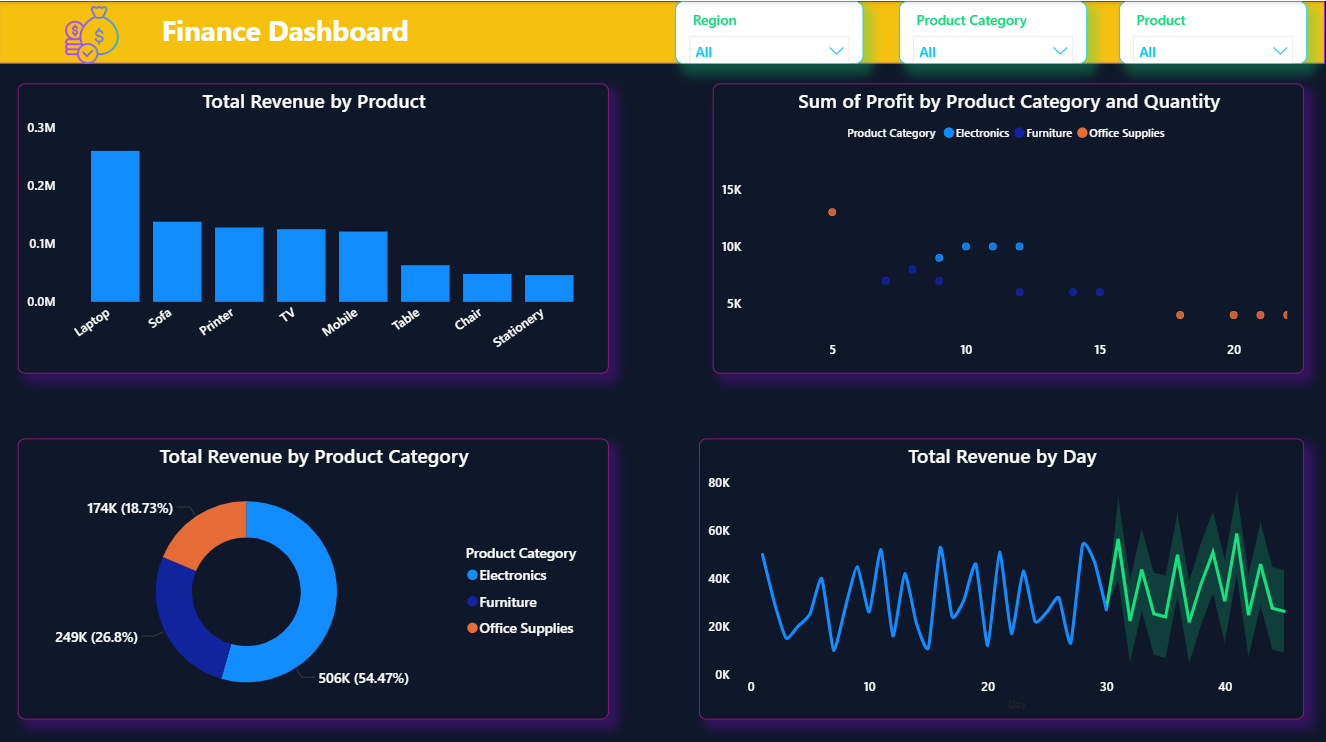

The dashboard page shown, as its layout file describes it:
{"tool":"powerbi","page":{"name":"Product Performance Analysis","canvas":[1280,720],"ordinal":1},"visuals":[{"type":"clusteredColumnChart","fields":{"Category":["Finance.Product"],"Y":["Measure.Total Revenue"]},"box":[18.1,79.6,570.6,279.9],"z":0},{"type":"scatterChart","fields":{"X":["Finance.Quantity"],"Y":["Sum(Finance.Profit)"],"Series":["Finance.Product Category"]},"box":[688.9,79.6,570.6,279.9],"z":1000},{"type":"donutChart","fields":{"Category":["Finance.Product Category"],"Y":["Measure.Total Revenue"]},"box":[18.1,422.3,570.6,271.4],"z":2000},{"type":"lineChart","fields":{"Category":["Finance.Date.Variation.Date Hierarchy.Day"],"Y":["Measure.Total Revenue"]},"box":[675.6,422.3,583.9,271.4],"z":3000},{"type":"shape","box":[0,0,1279.7,60.6],"z":4000},{"type":"slicer","fields":{"Values":["Finance.Region"]},"box":[652.1,0,181.8,60.6],"z":5000},{"type":"slicer","fields":{"Values":["Finance.Product Category"]},"box":[868.5,0,181.8,60.6],"z":6000},{"type":"slicer","fields":{"Values":["Finance.Product"]},"box":[1080.6,0,181.8,60.6],"z":7000},{"type":"textbox","box":[151.5,4.3,457.4,51.9],"z":8000},{"type":"image","box":[27.4,4.3,124.1,56.3],"z":9000}]}

Visuals, with their boxes in screenshot pixels (x1, y1, x2, y2), scaled from the page's 1280x720 canvas onto the 1326x742 screenshot:
clusteredColumnChart - Finance.Product x Measure.Total Revenue: {"left": 19, "top": 82, "right": 610, "bottom": 370}
scatterChart - Finance.Quantity x Sum(Finance.Profit): {"left": 714, "top": 82, "right": 1305, "bottom": 370}
donutChart - Finance.Product Category x Measure.Total Revenue: {"left": 19, "top": 435, "right": 610, "bottom": 715}
lineChart - Finance.Date.Variation.Date Hierarchy.Day x Measure.Total Revenue: {"left": 700, "top": 435, "right": 1305, "bottom": 715}
shape: {"left": 0, "top": 0, "right": 1325, "bottom": 62}
slicer - Finance.Region: {"left": 676, "top": 0, "right": 864, "bottom": 62}
slicer - Finance.Product Category: {"left": 900, "top": 0, "right": 1088, "bottom": 62}
slicer - Finance.Product: {"left": 1119, "top": 0, "right": 1308, "bottom": 62}
textbox: {"left": 157, "top": 4, "right": 631, "bottom": 58}
image: {"left": 28, "top": 4, "right": 157, "bottom": 62}
